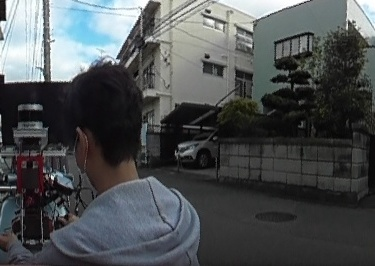person: (43, 60, 209, 266)
